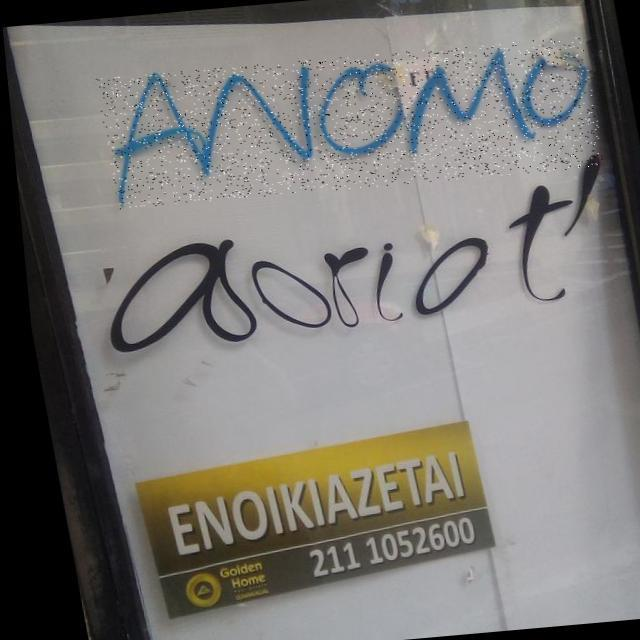-: (90, 35, 606, 208)
